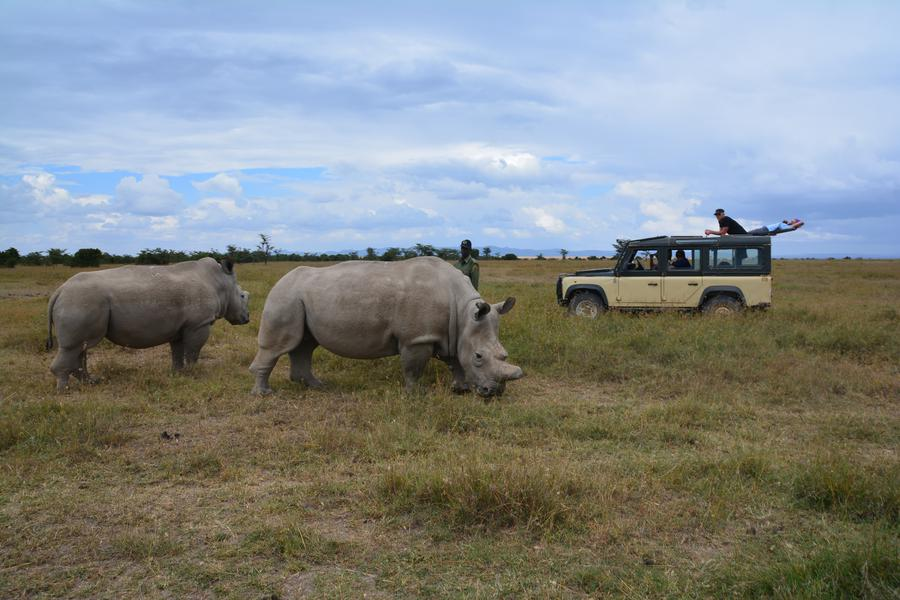rhino: (261, 255, 505, 400), (48, 245, 248, 367)
